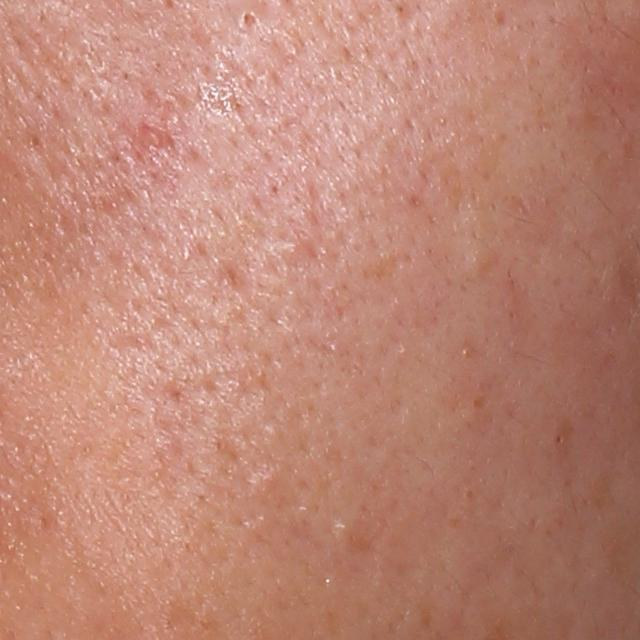comedo: (461, 243, 496, 276), (238, 8, 258, 32), (551, 431, 565, 448)
